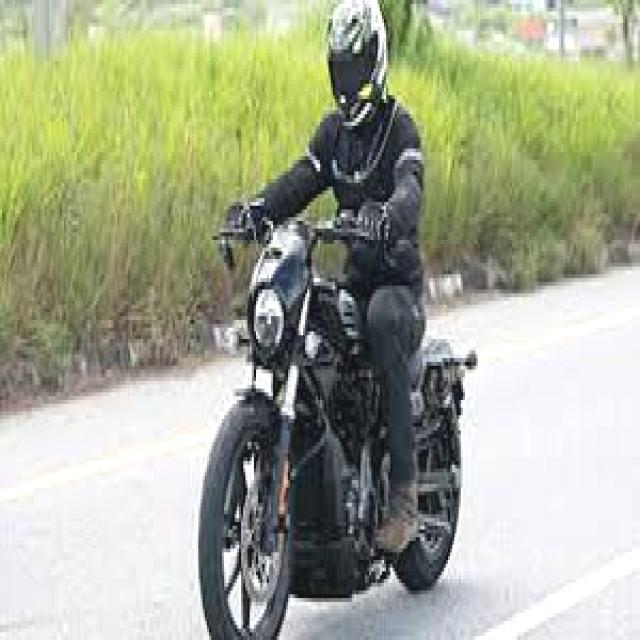MOTORCYCLE: (196, 211, 461, 640)
